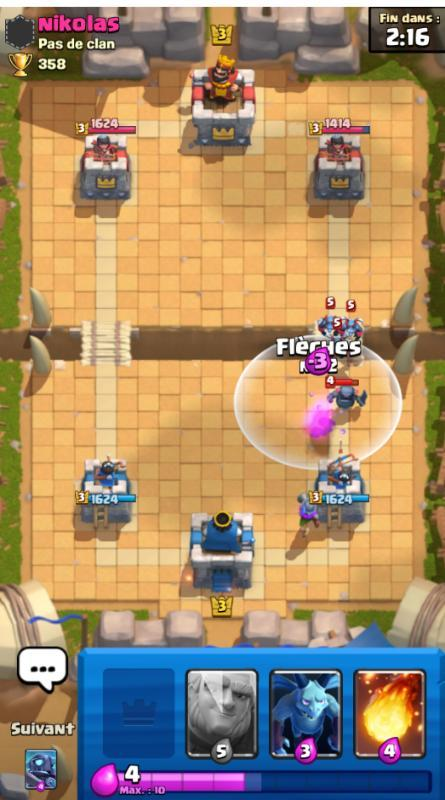enemy_mini_pekka: (324, 373, 377, 414)
player_minions: (315, 311, 341, 336), (340, 314, 366, 338)
player_musketeer: (291, 488, 328, 538)
